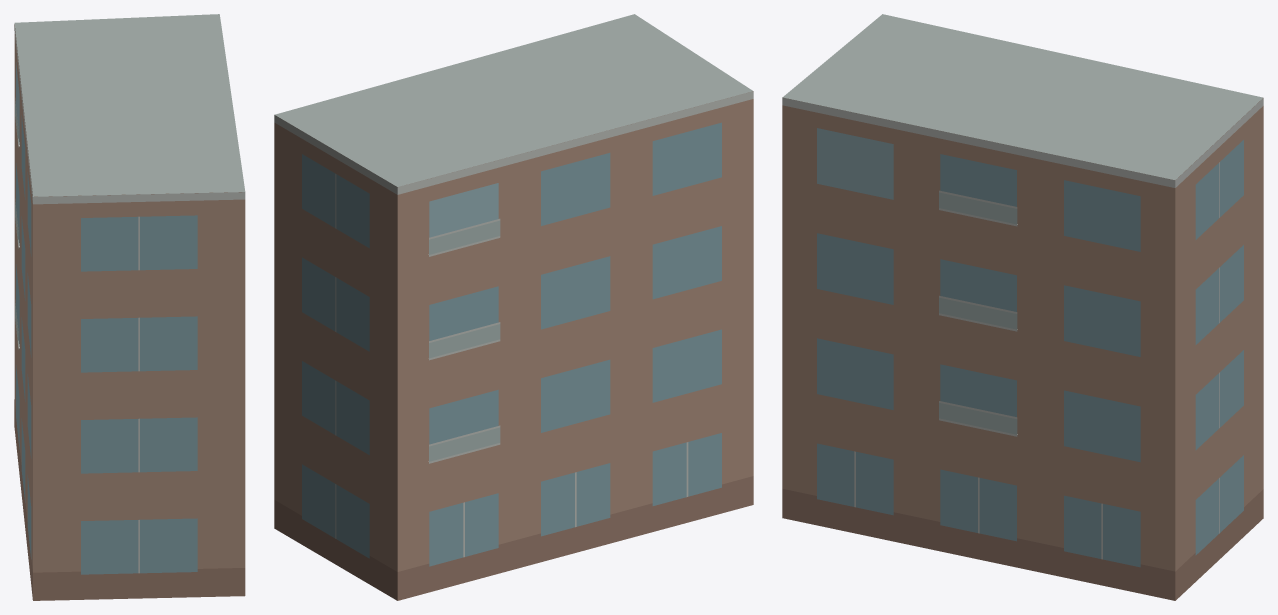
File: survey-upis-32531431.glb
3 views of the same model, side by side, from view 1: azimuth 30°, elevation 25°; view 2: azimuth 150°, elevation 25°; view 3: azimuth 270°, elevation 25° (orthographic). The views are drawn at different scales.
Visible parts, largest first — view 1: survey-upis-32531431.tmp; view 2: survey-upis-32531431.tmp; view 3: survey-upis-32531431.tmp.
Boxes of the visible parts, bbox=[...] form: survey-upis-32531431.tmp: bbox=[14, 14, 245, 600]; survey-upis-32531431.tmp: bbox=[274, 14, 753, 600]; survey-upis-32531431.tmp: bbox=[782, 14, 1263, 600].
Bounding box in the file's own units: 11.03 × 13 × 13.49.
